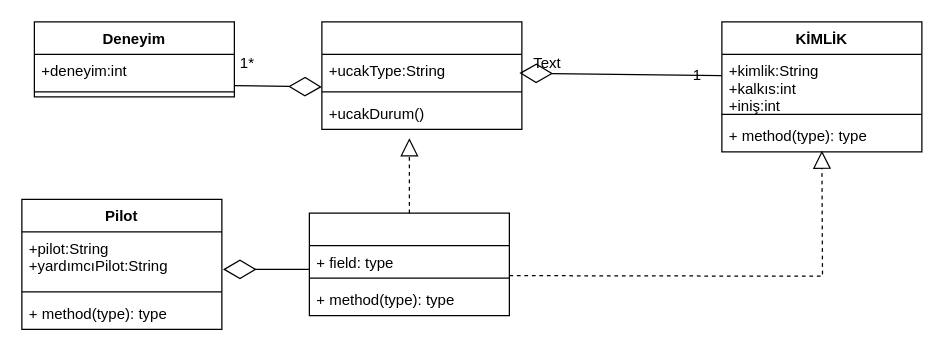
This 944x355 diagram has some shape labels left out. Here are the shapes that lost their labels. From the top down, the box of each, then its label:
(321, 21, 522, 129): Hava Yolları
(308, 212, 509, 316): Uçuş
